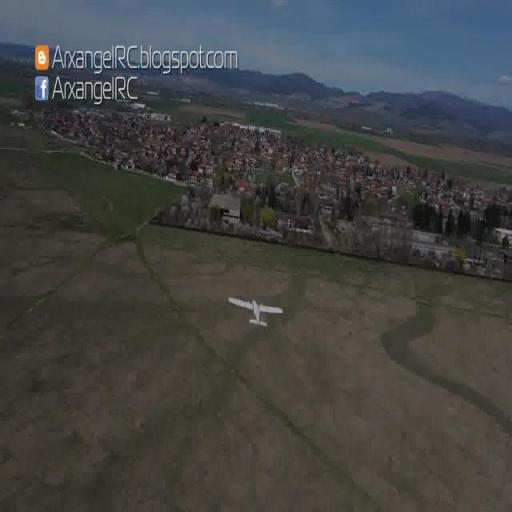uav: (229, 290, 284, 336)
